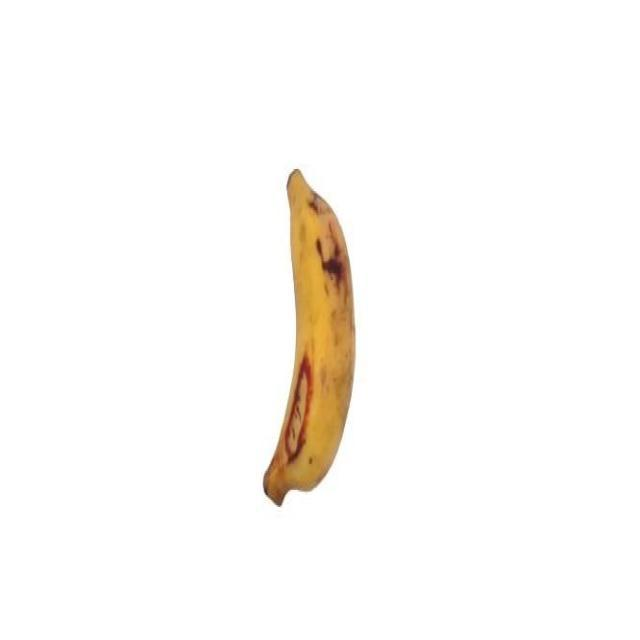banana: (264, 158, 359, 511)
